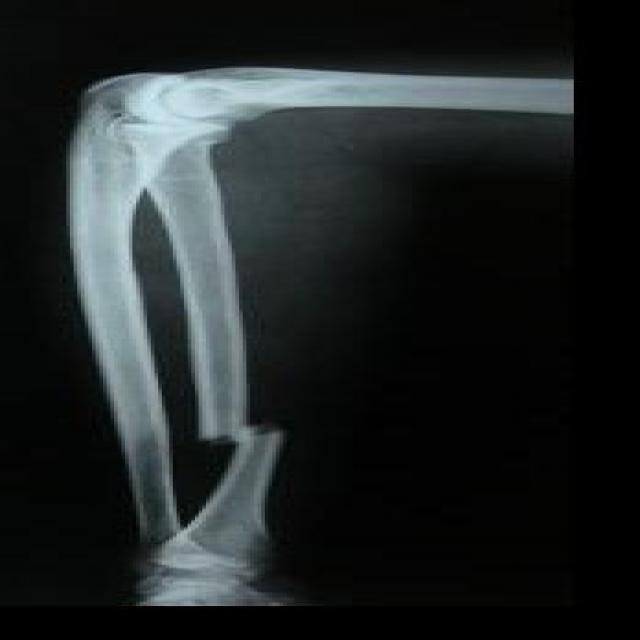Broken: (142, 137, 245, 449), (162, 432, 291, 576)
